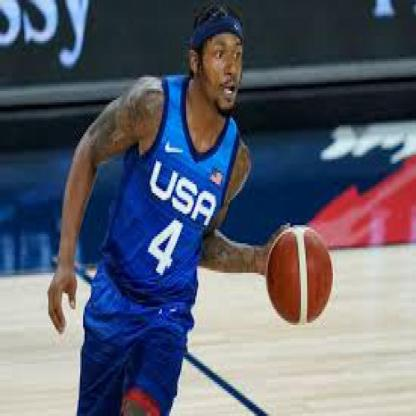basketball: (266, 225, 335, 327)
